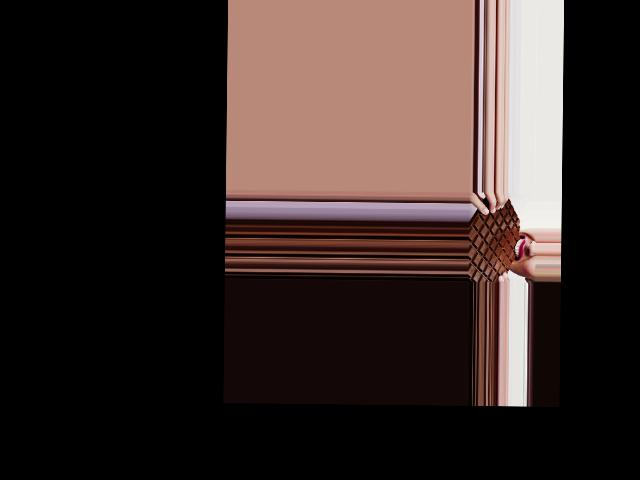chocolate: (468, 191, 522, 282)
